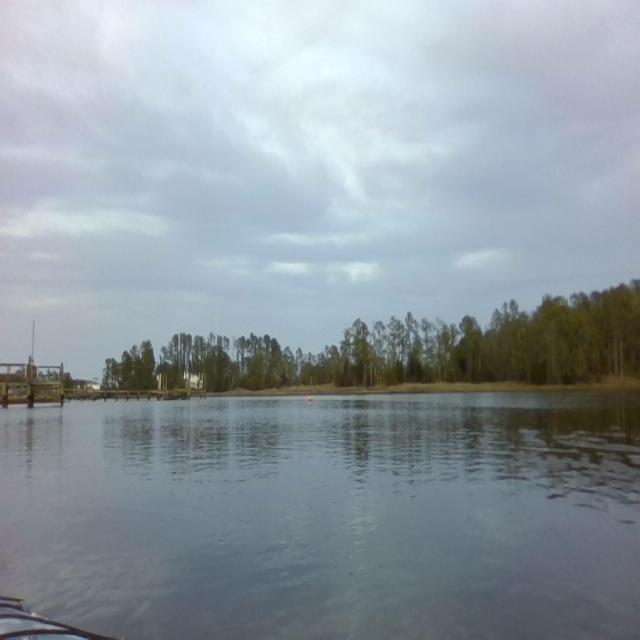Buoy: (308, 393, 315, 406)
